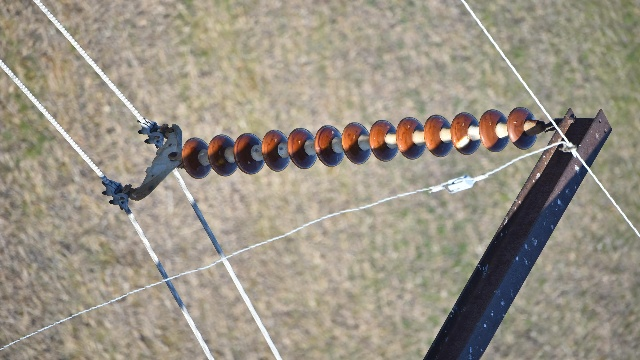insulator_unspecified: (182, 107, 540, 180)
pollution_flashover_local: (456, 137, 473, 150)
